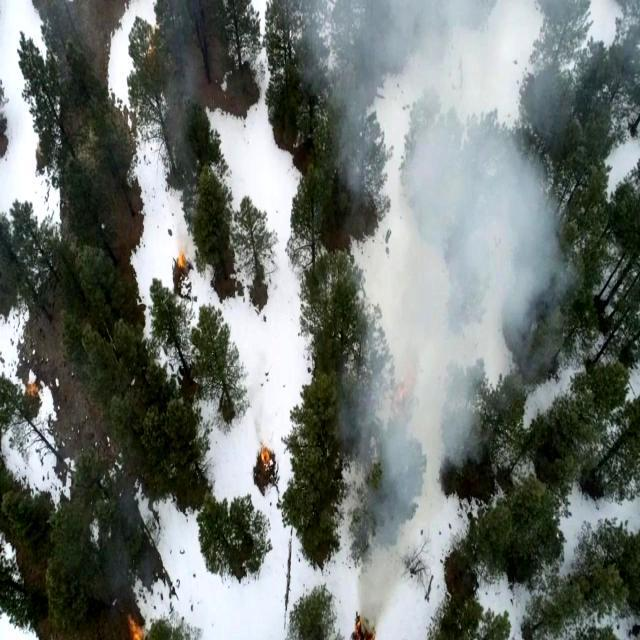Fire: (256, 442, 277, 479), (174, 247, 190, 280)
Smoke: (319, 0, 576, 605), (54, 0, 208, 234)
